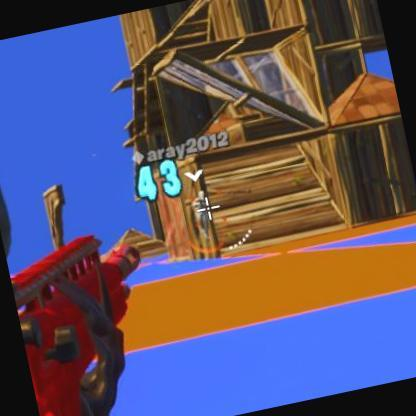person: (192, 190, 218, 236)
